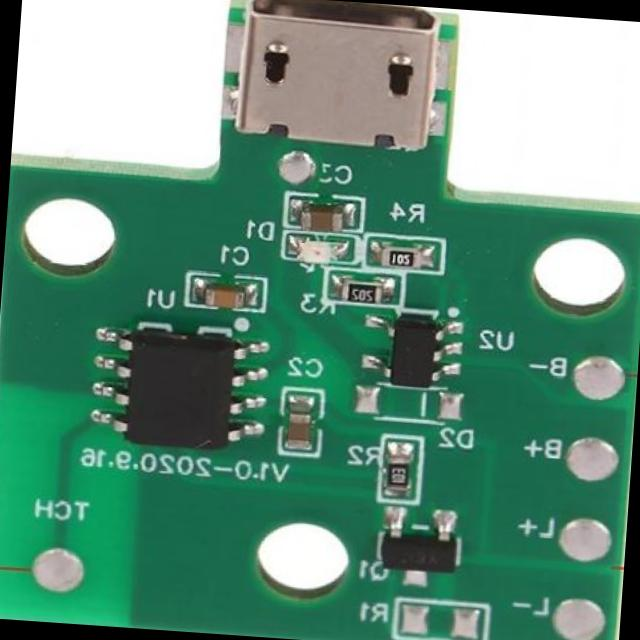IC: (96, 328, 253, 452), (371, 312, 453, 388)
LED: (293, 236, 341, 266)
capacitor: (283, 396, 317, 454), (300, 201, 352, 235), (192, 284, 256, 311)
connector: (232, 0, 450, 157)
resistor: (386, 438, 415, 494), (371, 244, 419, 274), (336, 281, 387, 308)
transistor: (382, 509, 461, 581)
